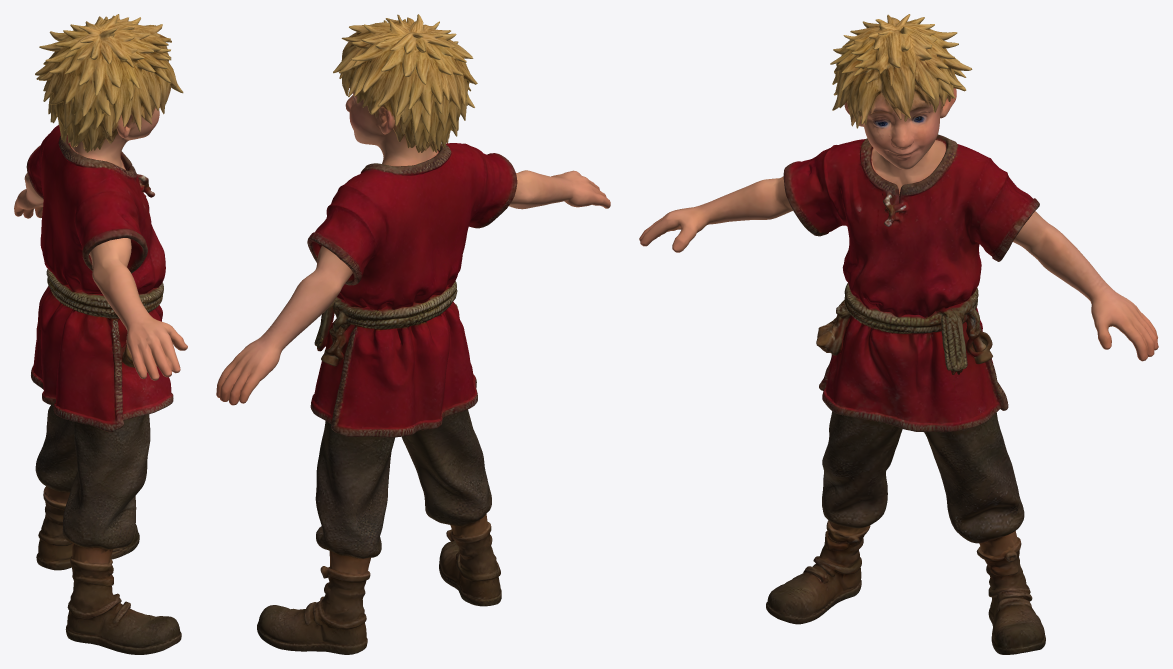
3 views of the same model, side by side, from view 1: azimuth 30°, elevation 25°; view 2: azimuth 150°, elevation 25°; view 3: azimuth 270°, elevation 25° (orthographic).
Parts seen in each view (by area): view 1: tripo_node_2d16df1f-b0cb-458c-b73c-c9d85dfd4b09; view 2: tripo_node_2d16df1f-b0cb-458c-b73c-c9d85dfd4b09; view 3: tripo_node_2d16df1f-b0cb-458c-b73c-c9d85dfd4b09.
Boxes of the visible parts, bbox=[...] form: tripo_node_2d16df1f-b0cb-458c-b73c-c9d85dfd4b09: bbox=[14, 14, 187, 654]; tripo_node_2d16df1f-b0cb-458c-b73c-c9d85dfd4b09: bbox=[216, 14, 610, 654]; tripo_node_2d16df1f-b0cb-458c-b73c-c9d85dfd4b09: bbox=[639, 14, 1158, 654].
Bounding box in the file's own units: 0.308 × 1 × 0.7842.
Materials: 1 (1 with a texture image).
